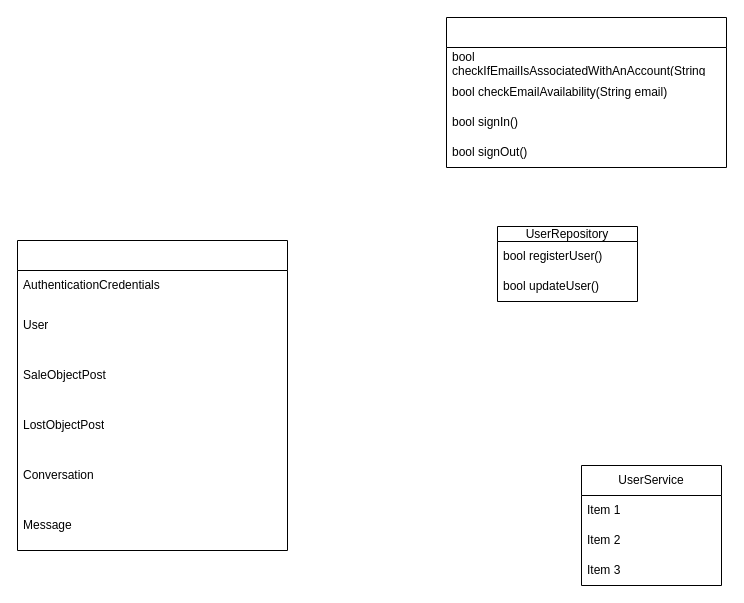
This 744x603 diagram has some shape labels left out. The box of each missing label's shape, as (x1, y1, x2, y2) in pixels:
AuthenticationCredentialsRepository: (446, 16, 726, 168)
Entities: (16, 240, 288, 550)
